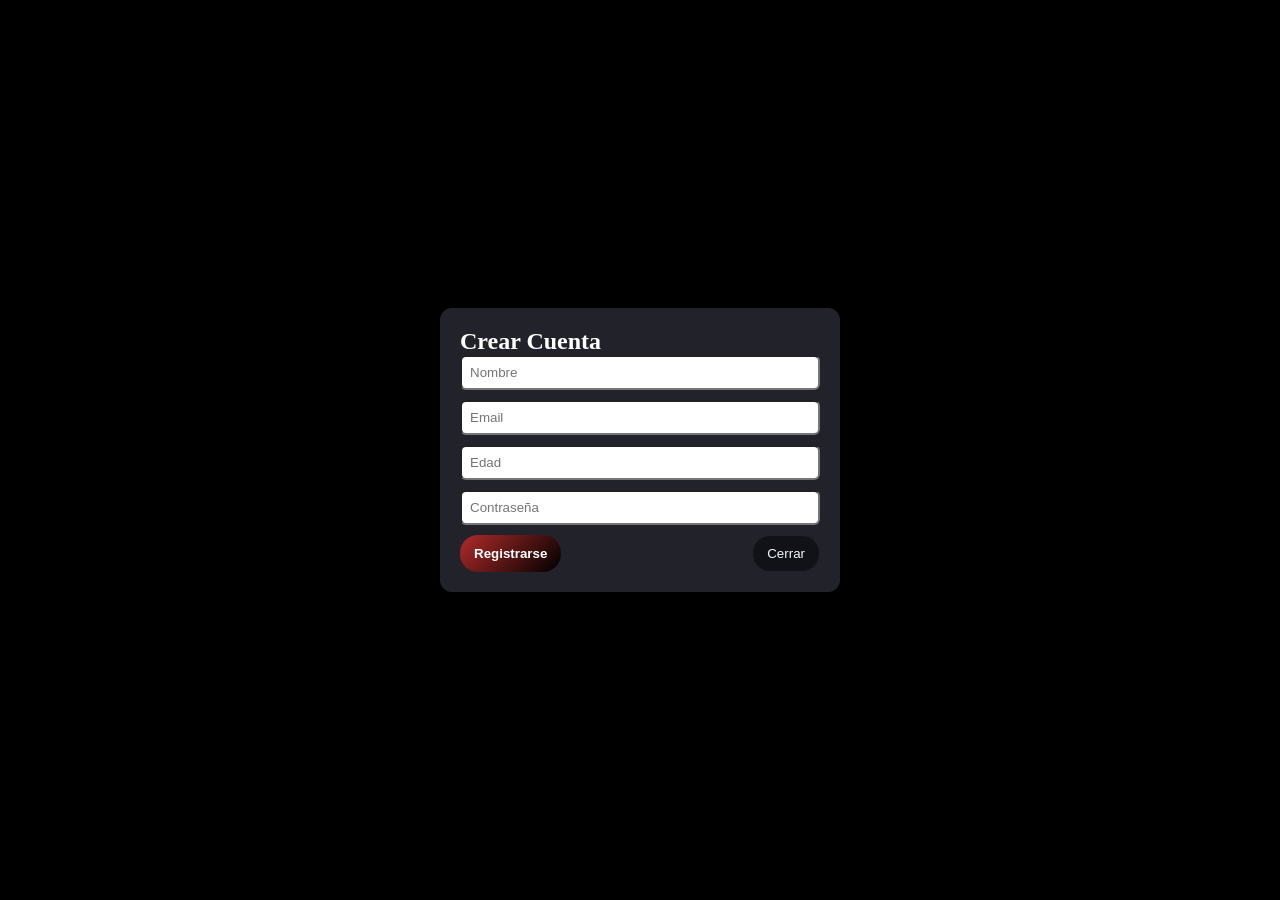
Scenario: Registro component › muestra mensaje de error si faltan campos
Click the button "Registrarse": (511, 554) [460,535,561,572]
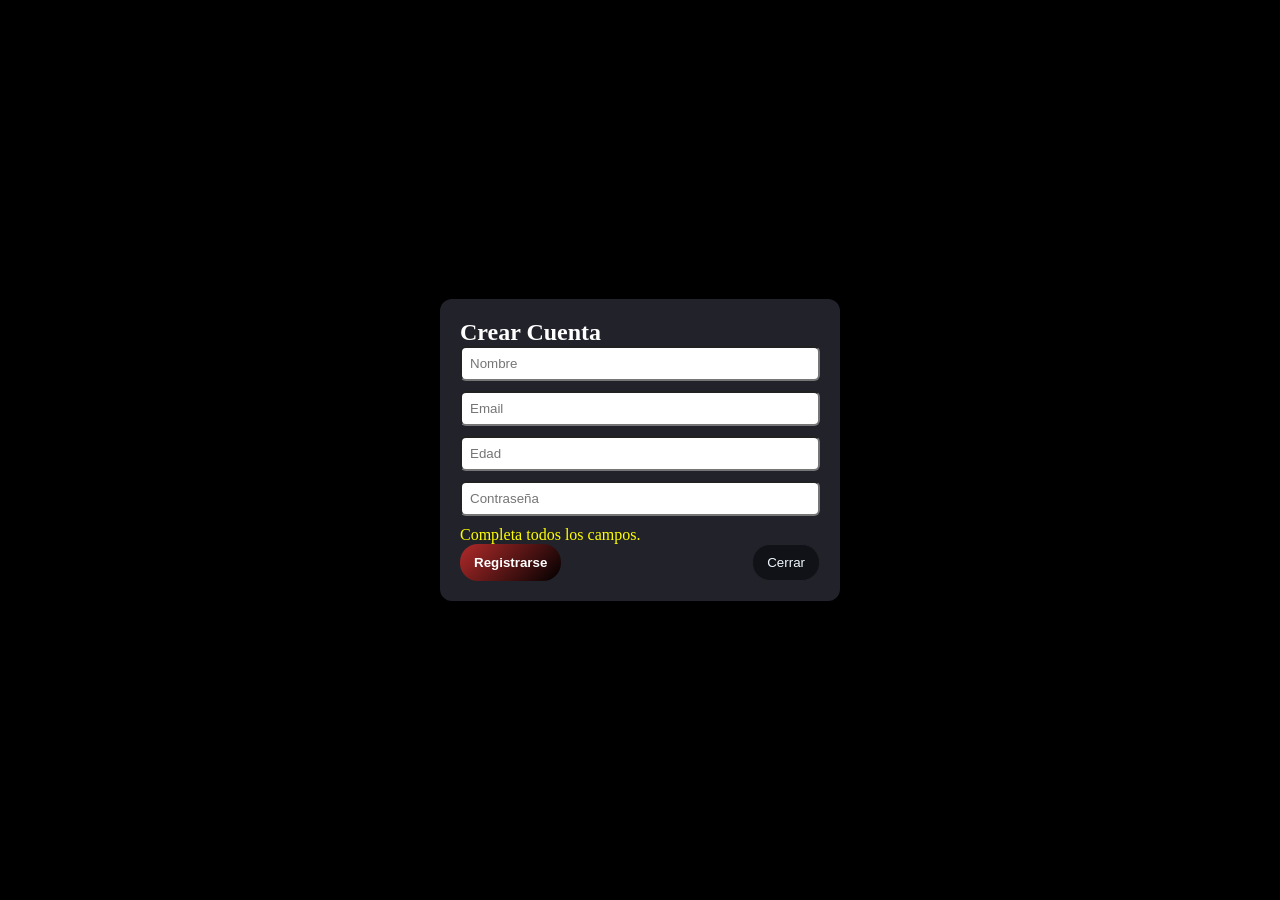
Expected: the text "Completa todos los campos." is shown, [460,526,640,543]
